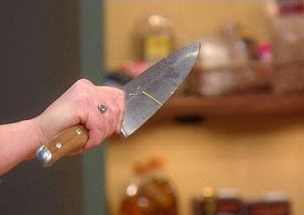knife: (87, 35, 206, 150)
